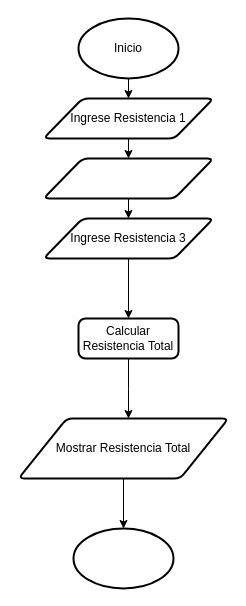
The diagram is 246 pixels wide and 606 high, and some of its shapes have lost their labels. The centre of each missing label's shape, as x and y in pixels:
"Fin" belongs at point 123,558.
"Ingrese Resistencia 2" belongs at point 128,178.
